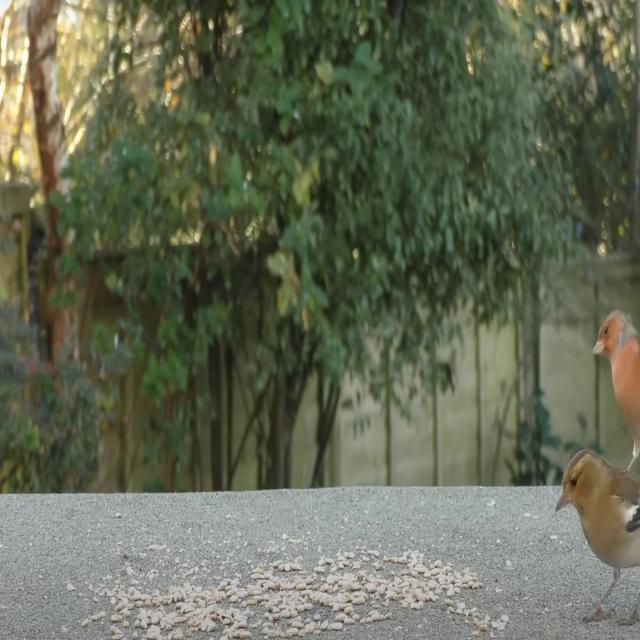beak: (590, 332, 606, 360), (556, 486, 570, 515)
bird: (555, 444, 640, 633), (591, 306, 640, 463)
